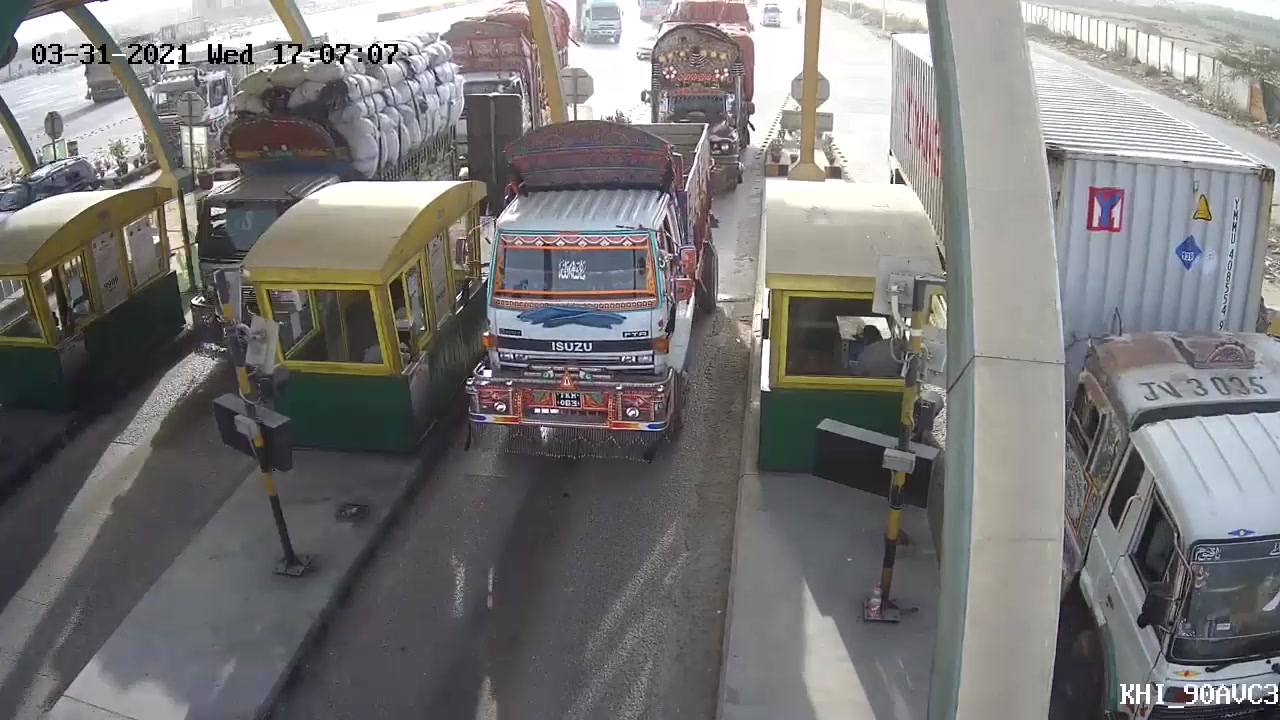F5: (450, 121, 707, 472)
